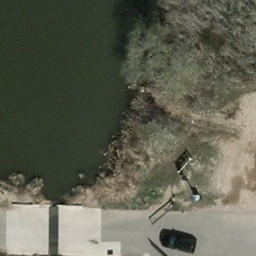car: (161, 229, 199, 254)
